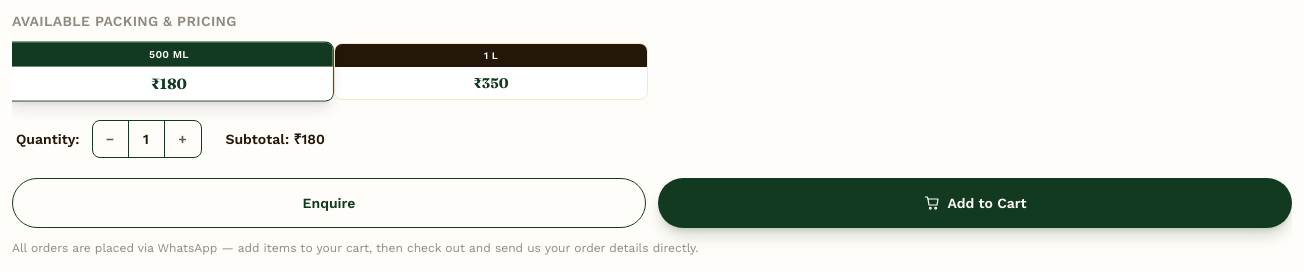
Test: AddToCartPanel › updates the subtotal when a different pack size is selected
The width and height of the screenshot is (1304, 272).
Click the text "1 L" at (491, 56), box [335, 44, 647, 67]
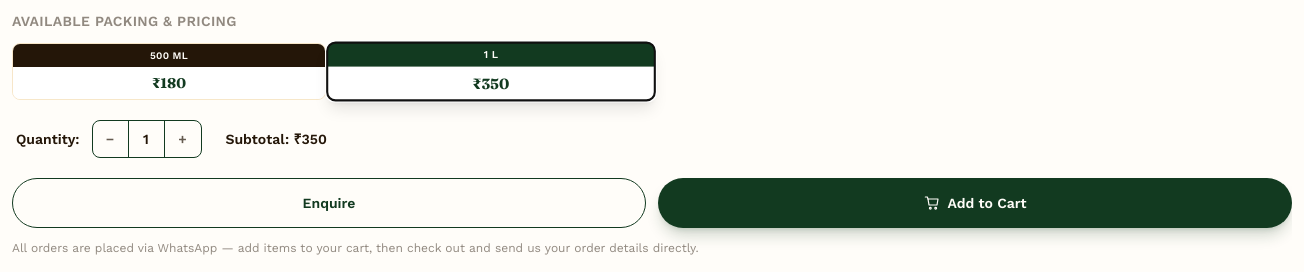
Now the text "Subtotal: ₹350" is shown, box [226, 129, 327, 149]
